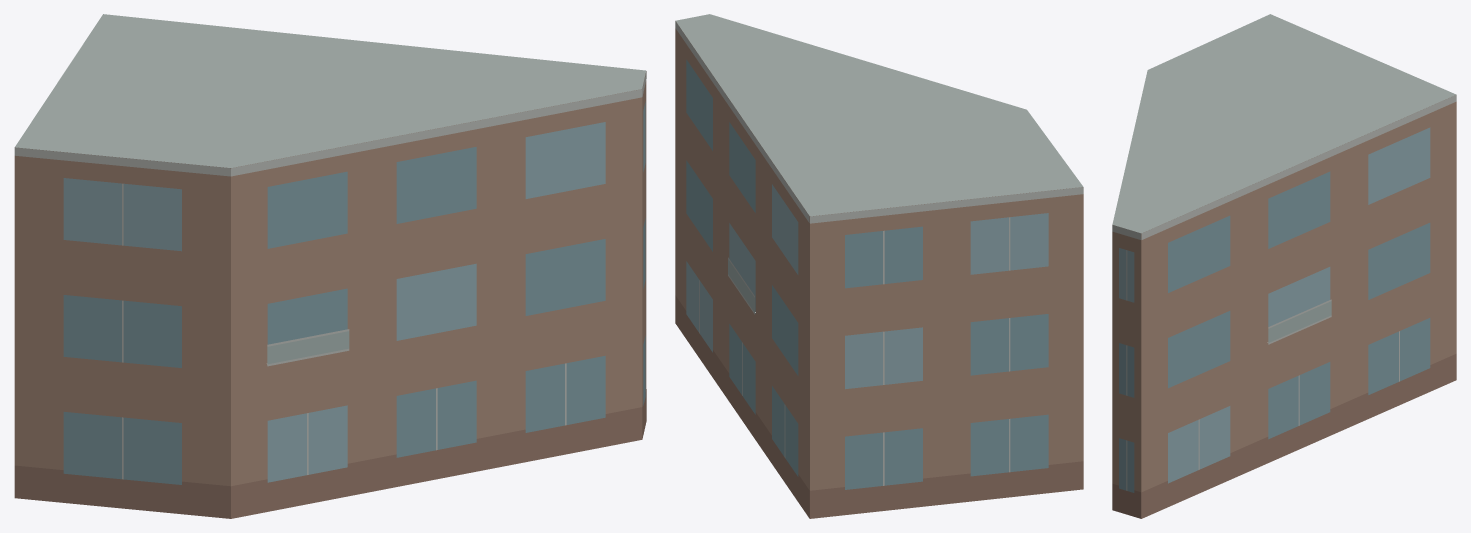
File: survey-upis-32648735.glb
3 renders of one model, left to right at view 1: azimuth 30°, elevation 25°; view 2: azimuth 150°, elevation 25°; view 3: azimuth 270°, elevation 25°, orthographic. The views are drawn at different scales.
Parts seen in each view (by area): view 1: survey-upis-32648735.tmp; view 2: survey-upis-32648735.tmp; view 3: survey-upis-32648735.tmp.
Part boxes in pixels (x1,y1,x2,y2): survey-upis-32648735.tmp: (14, 14, 646, 518); survey-upis-32648735.tmp: (675, 14, 1083, 518); survey-upis-32648735.tmp: (1112, 14, 1456, 518).
Size of the model in its own units: 16.82 by 10.2 by 11.16.
